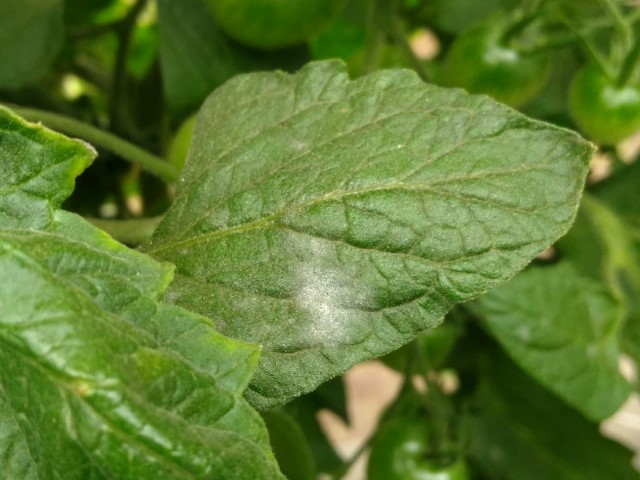blanca: (295, 263, 370, 344)
